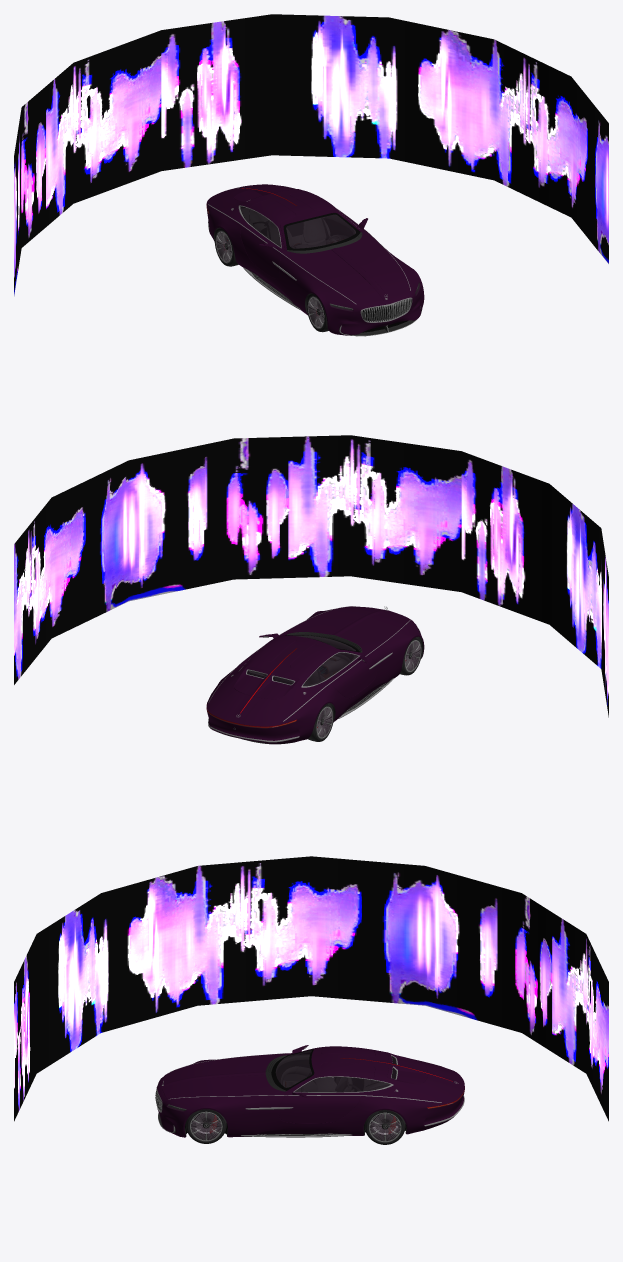
The model's file is mercedes.glb.
3 renders of one model, top to bottom at view 1: azimuth 30°, elevation 25°; view 2: azimuth 150°, elevation 25°; view 3: azimuth 270°, elevation 25°, orthographic.
Parts seen in each view (by area): view 1: maybachv6_frame_0, maybachv6_body_01_1, maybachv6_body_02_5, maybachv6_body_03_11, maybachv6_glass_01_4, maybachv6_chrome_01_2, maybachv6_details_02_10, maybachv6_rim_20, maybachv6_rim_02_19, maybachv6_glass_02_6; view 2: maybachv6_frame_0, maybachv6_body_01_1, maybachv6_body_02_5, maybachv6_body_03_11, maybachv6_chrome_01_2, maybachv6_glass_01_4, maybachv6_rim_20, maybachv6_details_02_10, maybachv6_rim_02_19, maybachv6_glass_02_6; view 3: maybachv6_frame_0, maybachv6_body_01_1, maybachv6_body_02_5, maybachv6_body_03_11, maybachv6_glass_01_4, maybachv6_rim_20, maybachv6_tire_21, maybachv6_rim_02_19, maybachv6_chrome_01_2, maybachv6_glass_02_6, maybachv6_details_02_10.
Boxes of the visible parts, <box> form: maybachv6_frame_0: <box>14,14,608,296</box>; maybachv6_body_01_1: <box>206,184,424,335</box>; maybachv6_body_02_5: <box>234,186,409,304</box>; maybachv6_body_03_11: <box>240,192,367,278</box>; maybachv6_glass_01_4: <box>206,204,419,310</box>; maybachv6_chrome_01_2: <box>208,186,421,336</box>; maybachv6_details_02_10: <box>213,228,421,335</box>; maybachv6_rim_20: <box>215,231,324,328</box>; maybachv6_rim_02_19: <box>216,232,323,327</box>; maybachv6_glass_02_6: <box>249,209,280,247</box>; maybachv6_frame_0: <box>14,435,608,717</box>; maybachv6_body_01_1: <box>206,606,424,744</box>; maybachv6_body_02_5: <box>234,606,409,699</box>; maybachv6_body_03_11: <box>243,633,376,698</box>; maybachv6_chrome_01_2: <box>208,606,410,742</box>; maybachv6_glass_01_4: <box>206,627,419,727</box>; maybachv6_rim_20: <box>316,640,421,738</box>; maybachv6_details_02_10: <box>208,632,423,744</box>; maybachv6_rim_02_19: <box>317,641,420,737</box>; maybachv6_glass_02_6: <box>311,652,358,680</box>; maybachv6_frame_0: <box>14,856,608,1121</box>; maybachv6_body_01_1: <box>157,1048,464,1137</box>; maybachv6_body_02_5: <box>162,1052,427,1098</box>; maybachv6_body_03_11: <box>278,1045,375,1123</box>; maybachv6_glass_01_4: <box>167,1049,464,1111</box>; maybachv6_rim_20: <box>190,1111,401,1142</box>; maybachv6_tire_21: <box>185,1109,405,1144</box>; maybachv6_rim_02_19: <box>191,1113,400,1140</box>; maybachv6_chrome_01_2: <box>155,1053,464,1137</box>; maybachv6_glass_02_6: <box>294,1077,372,1092</box>; maybachv6_details_02_10: <box>155,1055,464,1136</box>.
Bounding box in the file's own units: 10.54 × 2.73 × 10.54.
9 materials, 6 textured.
